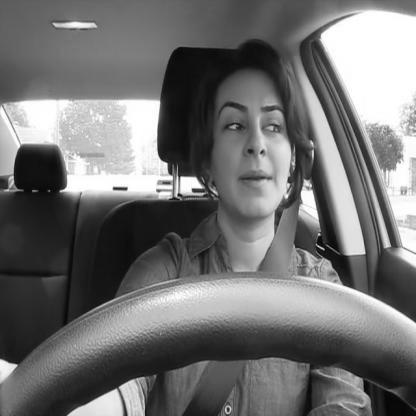seatbelt: (137, 31, 320, 416)
